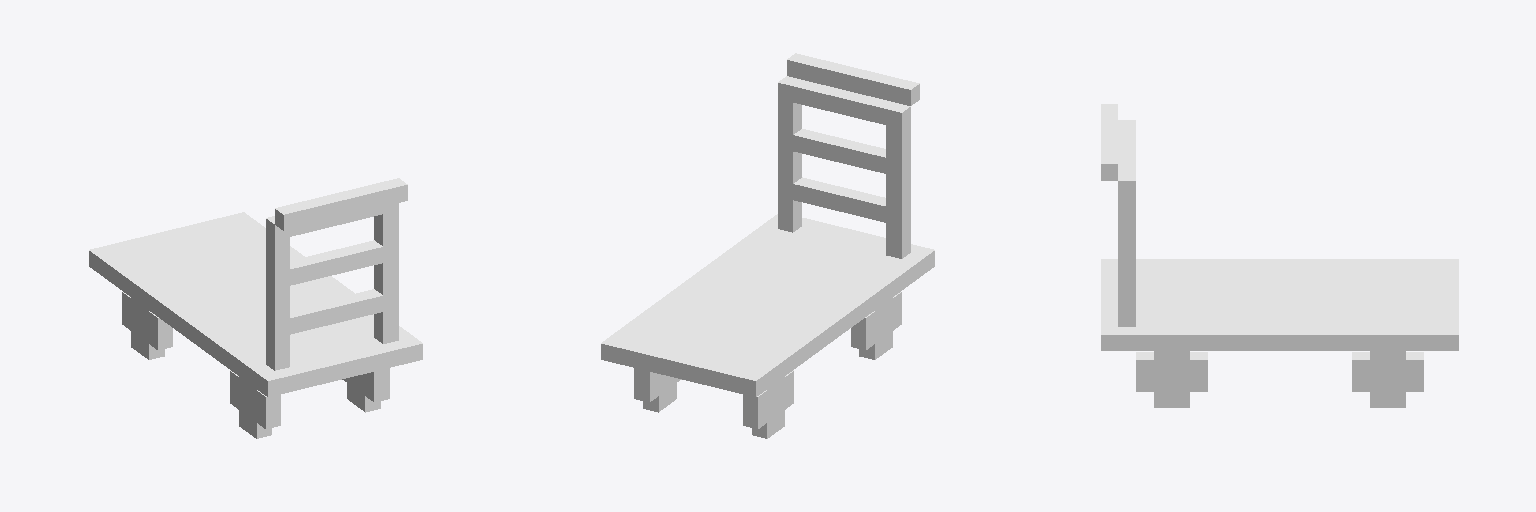
The model's file is DollyCart.obj.
3 renders of one model, left to right at view 1: azimuth 30°, elevation 25°; view 2: azimuth 150°, elevation 25°; view 3: azimuth 270°, elevation 25°, orthographic.
Parts seen in each view (by area): view 1: object 1; view 2: object 1; view 3: object 1.
Boxes of the visible parts, <box> form: object 1: <box>89,178,422,438</box>; object 1: <box>601,53,934,438</box>; object 1: <box>1101,104,1458,407</box>.
Bounding box in the file's own units: 1 × 1.5 × 2.